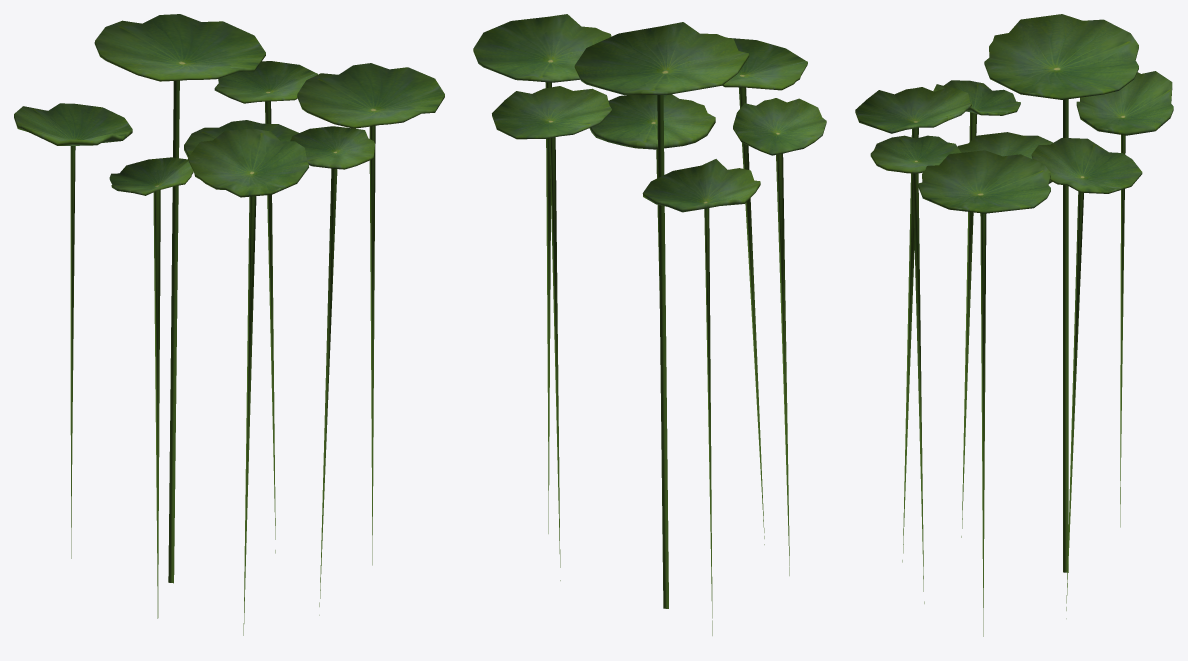
The model's file is GC_Lotusleaf_00.FBX.
3 views of the same model, side by side, from view 1: azimuth 30°, elevation 25°; view 2: azimuth 150°, elevation 25°; view 3: azimuth 270°, elevation 25° (orthographic). The views are drawn at different scales.
Parts seen in each view (by area): view 1: GC_Lotusleaf_00; view 2: GC_Lotusleaf_00; view 3: GC_Lotusleaf_00.
Boxes of the visible parts, x1=… form: GC_Lotusleaf_00: x1=14, y1=14, x2=444, y2=635; GC_Lotusleaf_00: x1=473, y1=14, x2=826, y2=635; GC_Lotusleaf_00: x1=855, y1=14, x2=1173, y2=636.
Size of the model in its own units: 132 by 201 by 110.
